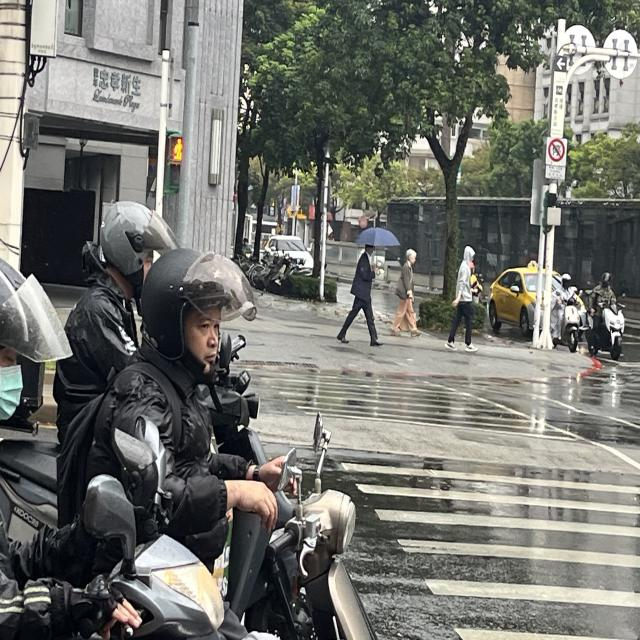red light: (164, 136, 186, 190)
